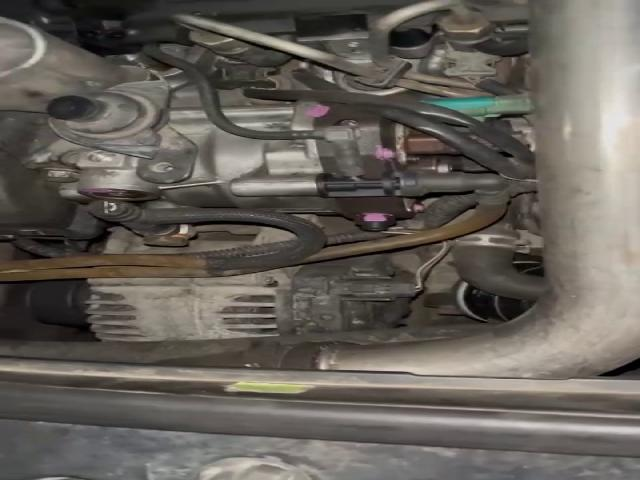alternator: (86, 269, 292, 341)
high_pressure_pump: (29, 103, 415, 230)
